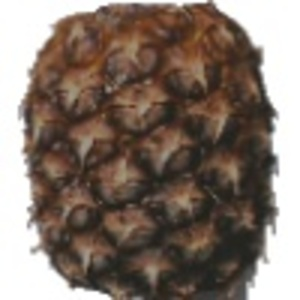abacaxi: (17, 3, 283, 293)
